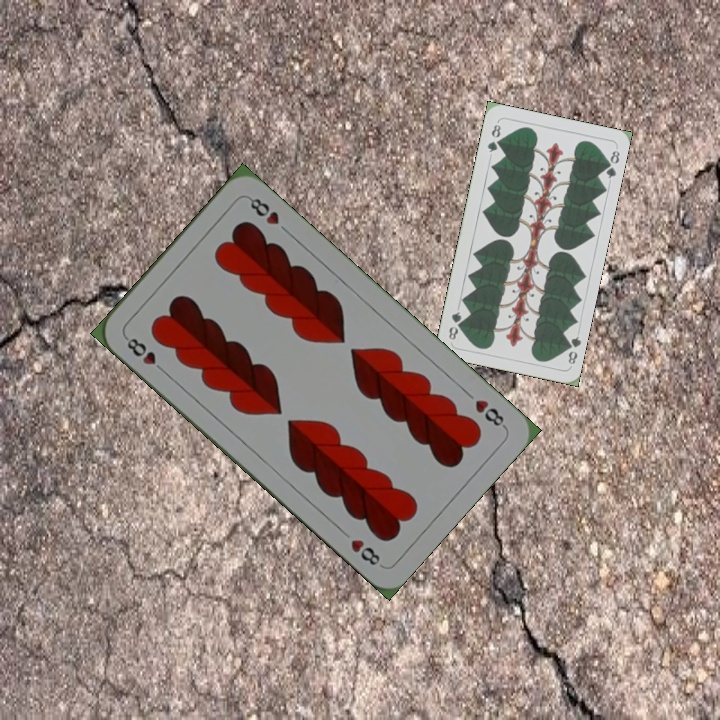G8: (561, 332, 583, 367), (483, 120, 503, 155)
H8: (120, 332, 169, 376), (470, 395, 509, 431)
